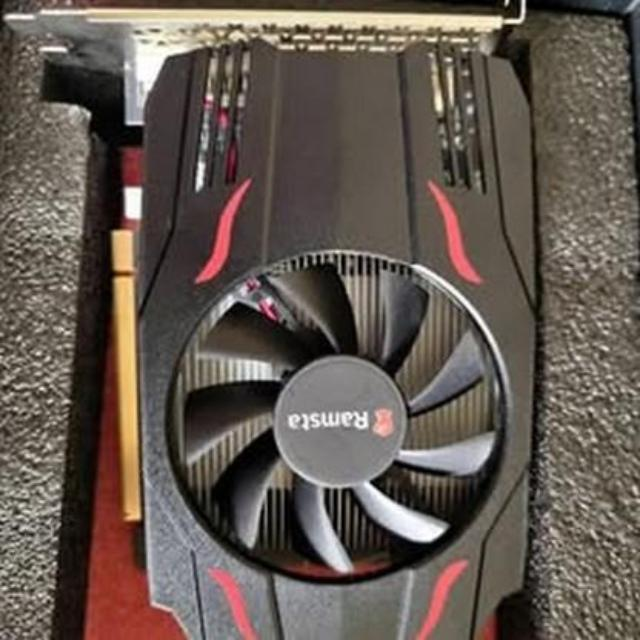GPU: (86, 5, 543, 640)
